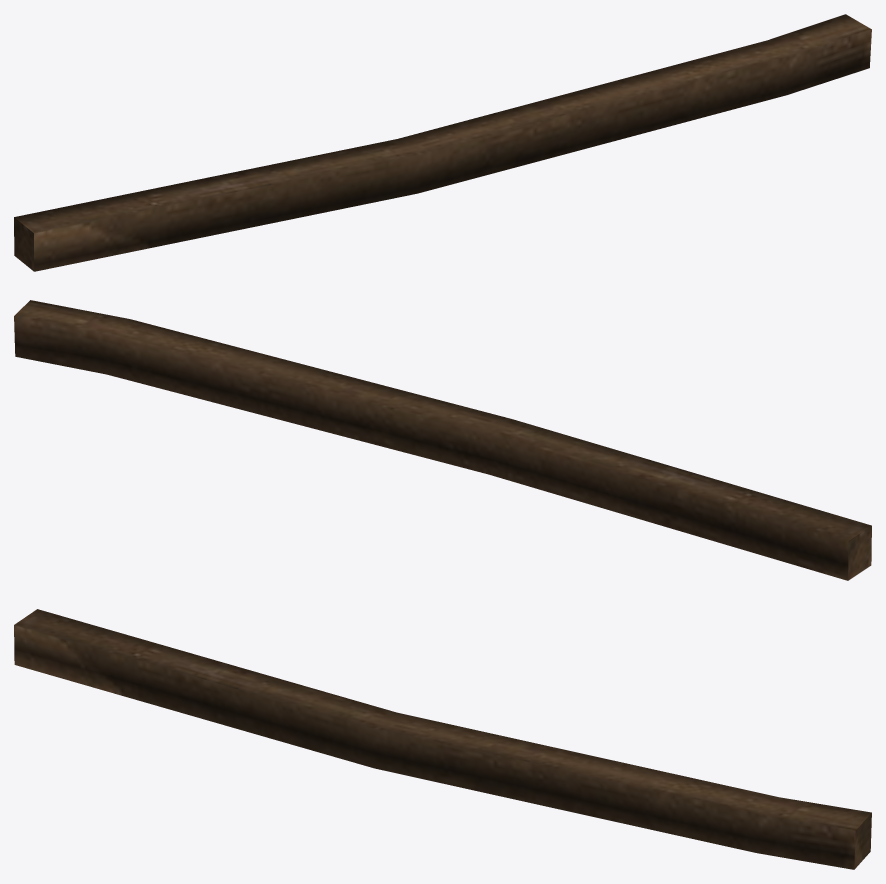
The model's file is WoodPlank_03.FBX.
3 views of the same model, one above another, from view 1: azimuth 30°, elevation 25°; view 2: azimuth 150°, elevation 25°; view 3: azimuth 330°, elevation 25° (orthographic). The views are drawn at different scales.
Parts seen in each view (by area): view 1: WoodPlank_03; view 2: WoodPlank_03; view 3: WoodPlank_03.
Boxes of the visible parts, x1=… form: WoodPlank_03: x1=14, y1=14, x2=871, y2=271; WoodPlank_03: x1=14, y1=300, x2=871, y2=580; WoodPlank_03: x1=14, y1=609, x2=871, y2=869.
Size of the model in its own units: 145 by 8.23 by 11.68.
